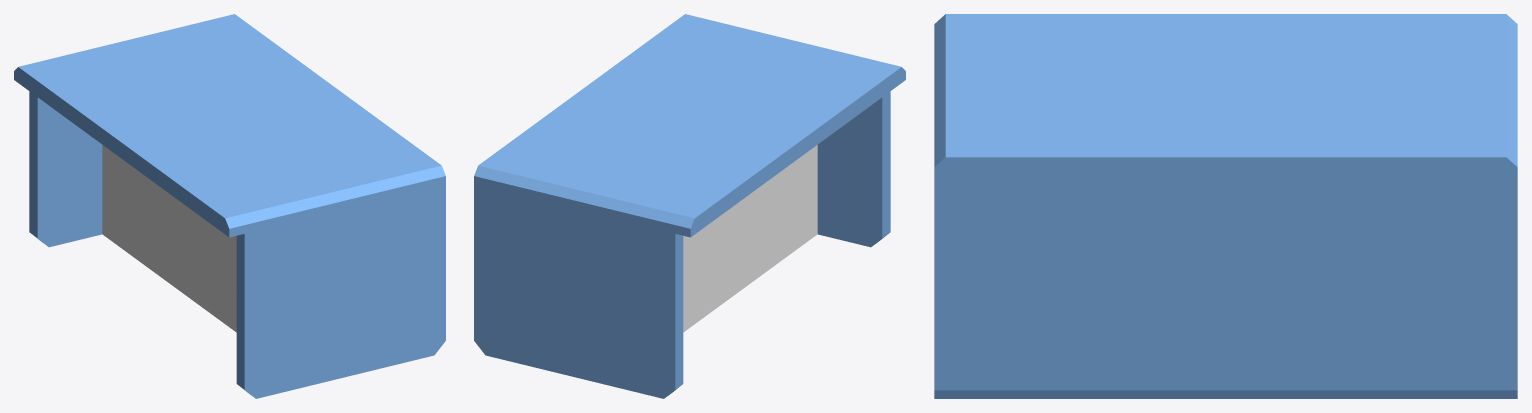
Rendered from Kitchen Bar_2.fbx.
The picture shows the model from 3 angles, left to right: view 1: azimuth 30°, elevation 25°; view 2: azimuth 150°, elevation 25°; view 3: azimuth 270°, elevation 25°; orthographic projection. The views are drawn at different scales.
Parts seen in each view (by area): view 1: Kitchen Bar_2; view 2: Kitchen Bar_2; view 3: Kitchen Bar_2.
Boxes of the visible parts, box(x1,y1,x2,y2) form: Kitchen Bar_2: box(14, 14, 445, 398); Kitchen Bar_2: box(474, 14, 905, 398); Kitchen Bar_2: box(934, 14, 1517, 398).
Bounding box in the file's own units: 0.76 × 0.6171 × 1.31.
